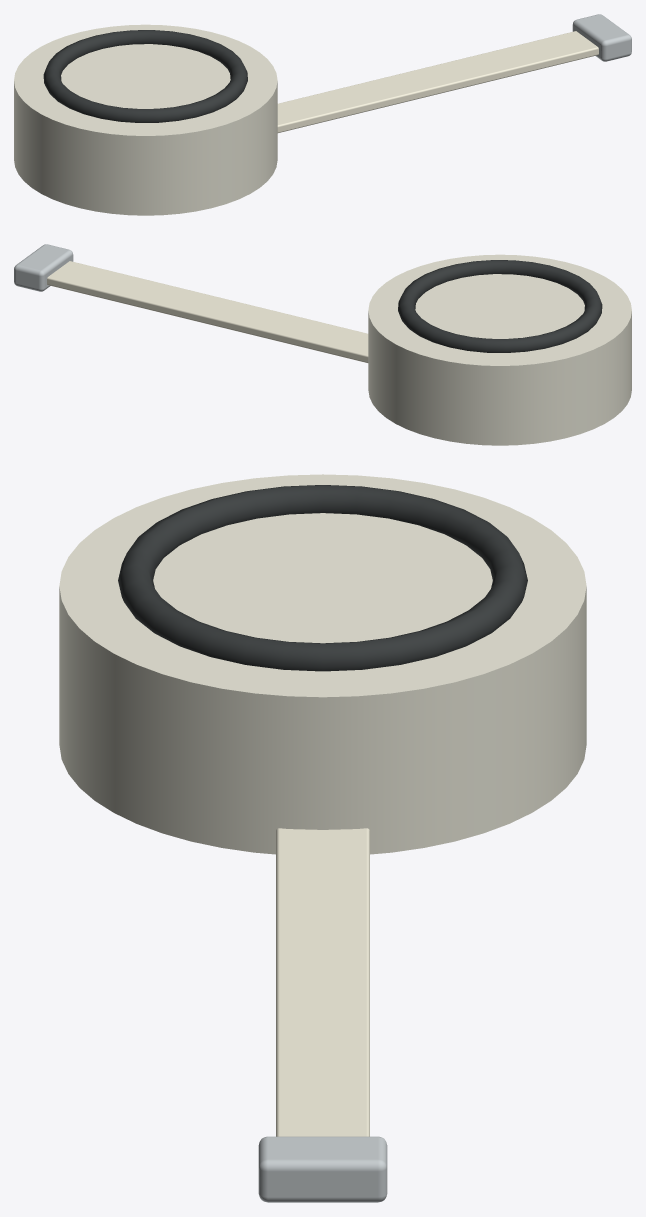
The model's file is textile-weaving-and-dye-workshop-measuring-tape-reel-a531b413__29556.glb.
The picture shows the model from 3 angles, top to bottom: view 1: azimuth 30°, elevation 25°; view 2: azimuth 150°, elevation 25°; view 3: azimuth 270°, elevation 25°; orthographic projection. The views are drawn at different scales.
Visible parts, largest first — view 1: measuring-tape-reel; view 2: measuring-tape-reel; view 3: measuring-tape-reel.
Boxes of the visible parts, x1,y1,x2,y2 form: measuring-tape-reel: [14, 14, 631, 215]; measuring-tape-reel: [14, 244, 631, 445]; measuring-tape-reel: [59, 474, 586, 1202].
Bounding box in the file's own units: 0.231 × 0.034 × 0.09.
